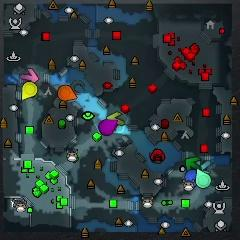p1: (185, 169, 197, 188)
p2: (196, 168, 211, 188)
p3: (99, 119, 118, 136)
p4: (22, 82, 38, 101)
p5: (58, 85, 77, 100)
x1: (20, 69, 39, 83)
x2: (108, 111, 124, 126)
x3: (195, 159, 211, 174)
x4: (185, 157, 201, 171)
